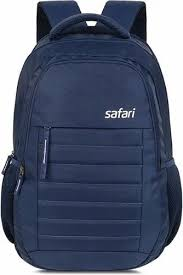backpack: (0, 0, 182, 271)
